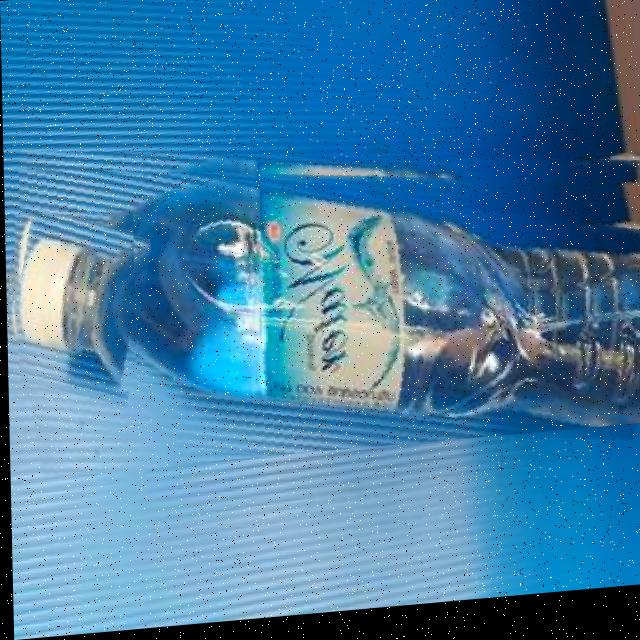litter: (3, 122, 640, 478), (4, 204, 135, 401)
